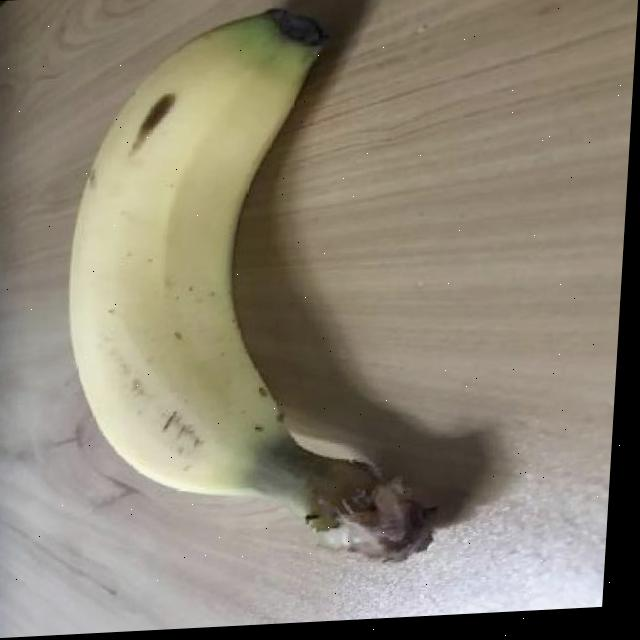banana: (45, 0, 473, 581)
